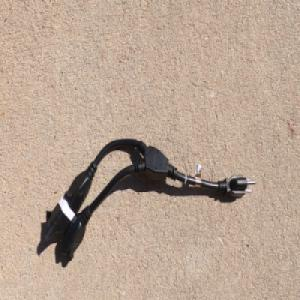Wire: (42, 135, 257, 262)
